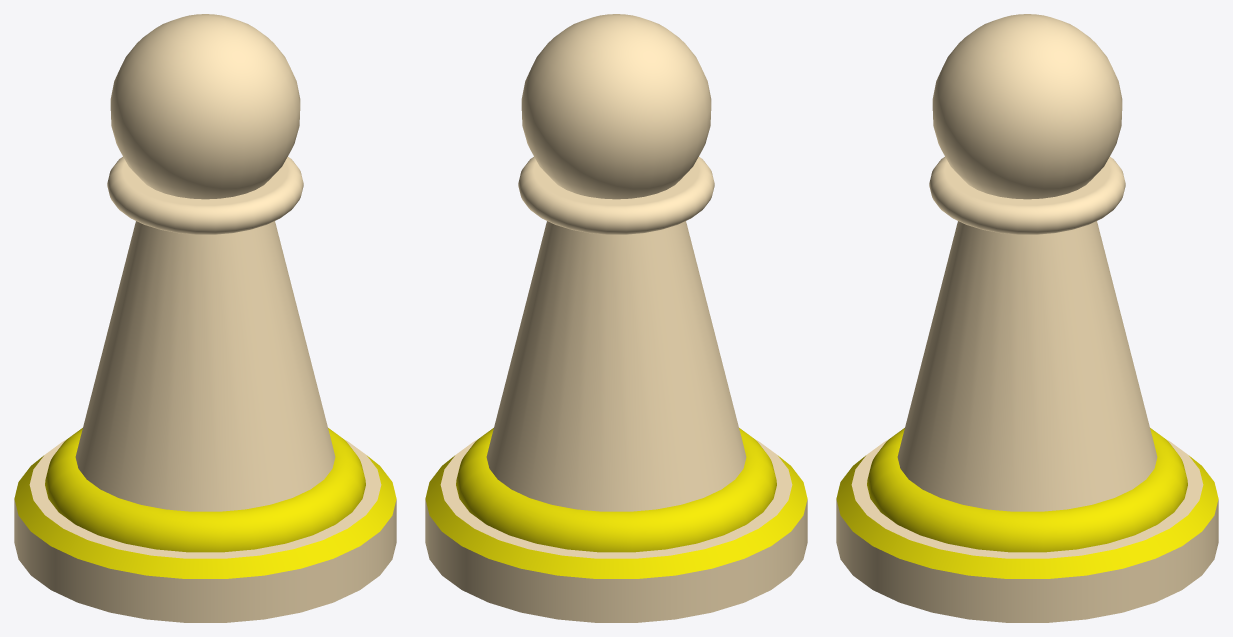
Rendered from Premium_W_Pawn.gltf.
3 renders of one model, left to right at view 1: azimuth 30°, elevation 25°; view 2: azimuth 150°, elevation 25°; view 3: azimuth 270°, elevation 25°, orthographic.
Visible parts, largest first — view 1: Pawn; view 2: Pawn; view 3: Pawn.
Part boxes in pixels (left/top/right/bottom): Pawn: left=14, top=14, right=396, bottom=622; Pawn: left=425, top=14, right=807, bottom=622; Pawn: left=836, top=14, right=1218, bottom=622.
Bounding box in the file's own units: 0.0284 × 0.0429 × 0.0286.
